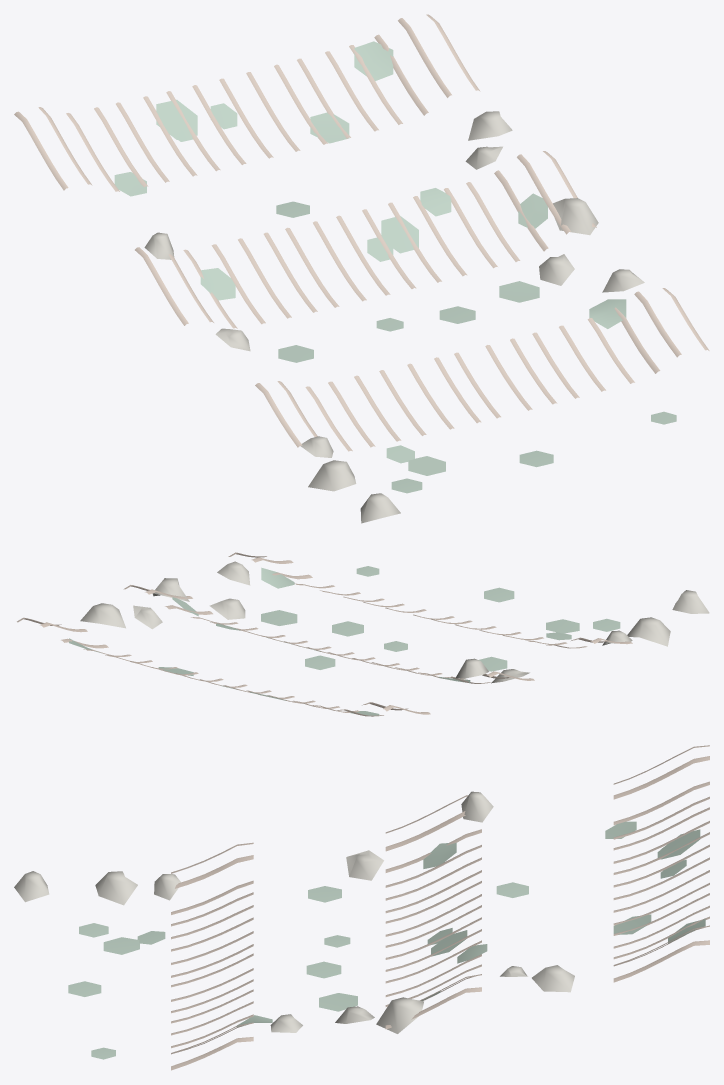
The model's file is tailings_lip_detail1.glb.
The picture shows the model from 3 angles, top to bottom: view 1: azimuth 30°, elevation 25°; view 2: azimuth 150°, elevation 25°; view 3: azimuth 270°, elevation 25°; orthographic projection. The views are drawn at different scales.
Parts seen in each view (by area): view 1: tailings_lip_detail1_mesh; view 2: tailings_lip_detail1_mesh; view 3: tailings_lip_detail1_mesh.
Boxes of the visible parts, left/top/right/bottom form: tailings_lip_detail1_mesh: left=14, top=14, right=709, bottom=523; tailings_lip_detail1_mesh: left=17, top=552, right=709, bottom=716; tailings_lip_detail1_mesh: left=14, top=745, right=709, bottom=1070.
Bounding box in the file's own units: 27.08 × 9.41 × 39.1.
